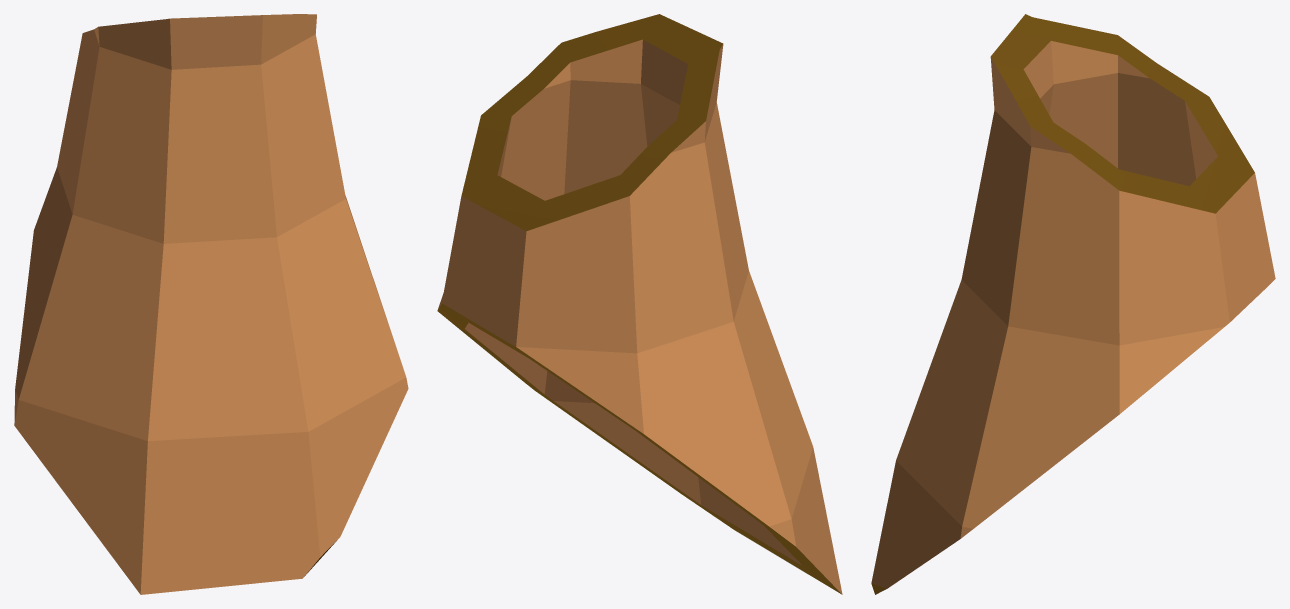
3 views of the same model, side by side, from view 1: azimuth 30°, elevation 25°; view 2: azimuth 150°, elevation 25°; view 3: azimuth 270°, elevation 25° (orthographic). The views are drawn at different scales.
Parts seen in each view (by area): view 1: v_07; view 2: v_07; view 3: v_07.
Part boxes in pixels (x1,y1,x2,y2): v_07: (14,14,408,594); v_07: (437,14,842,594); v_07: (871,14,1275,594).
Size of the model in its own units: 0.3666 by 0.5535 by 0.3646.
Materials: 1 (1 with a texture image).
